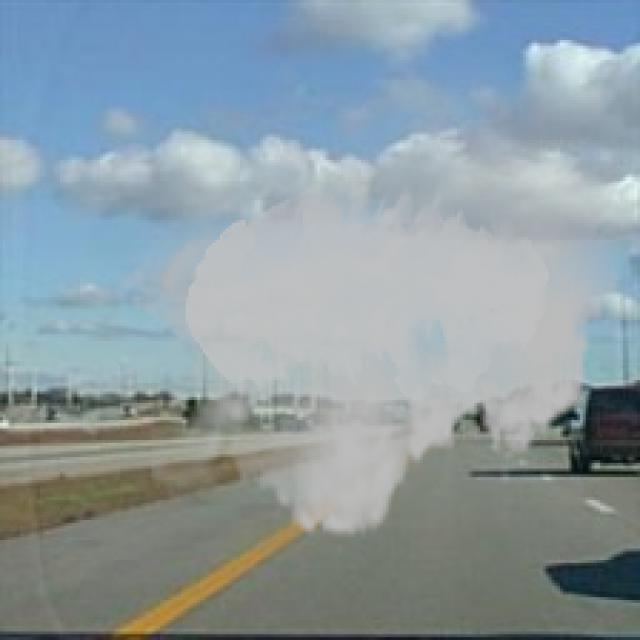smoke: (117, 34, 632, 557)
